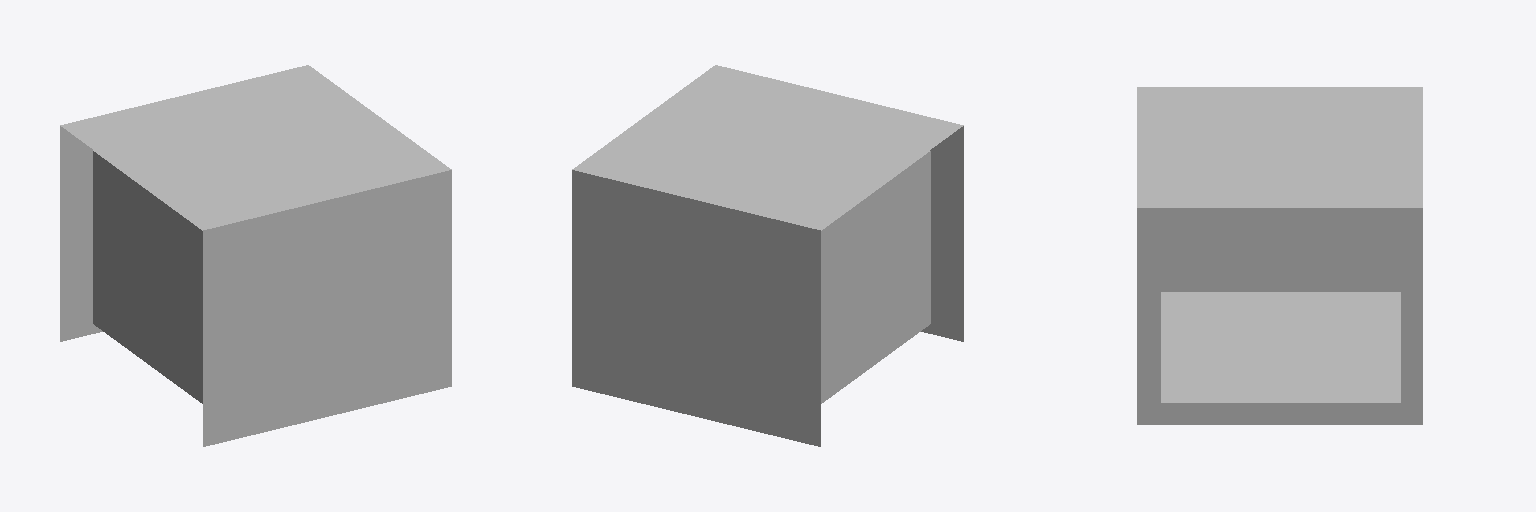
Rendered from CajaFuerte.obj.
3 renders of one model, left to right at view 1: azimuth 30°, elevation 25°; view 2: azimuth 150°, elevation 25°; view 3: azimuth 270°, elevation 25°, orthographic.
Parts seen in each view (by area): view 1: Cubo_Cubo.003; view 2: Cubo_Cubo.003; view 3: Cubo_Cubo.003.
Boxes of the visible parts, x1,y1,x2,y2 form: Cubo_Cubo.003: [60, 65, 451, 446]; Cubo_Cubo.003: [572, 65, 963, 446]; Cubo_Cubo.003: [1137, 87, 1422, 424].
Size of the model in its own units: 1.2 by 1 by 1.2.